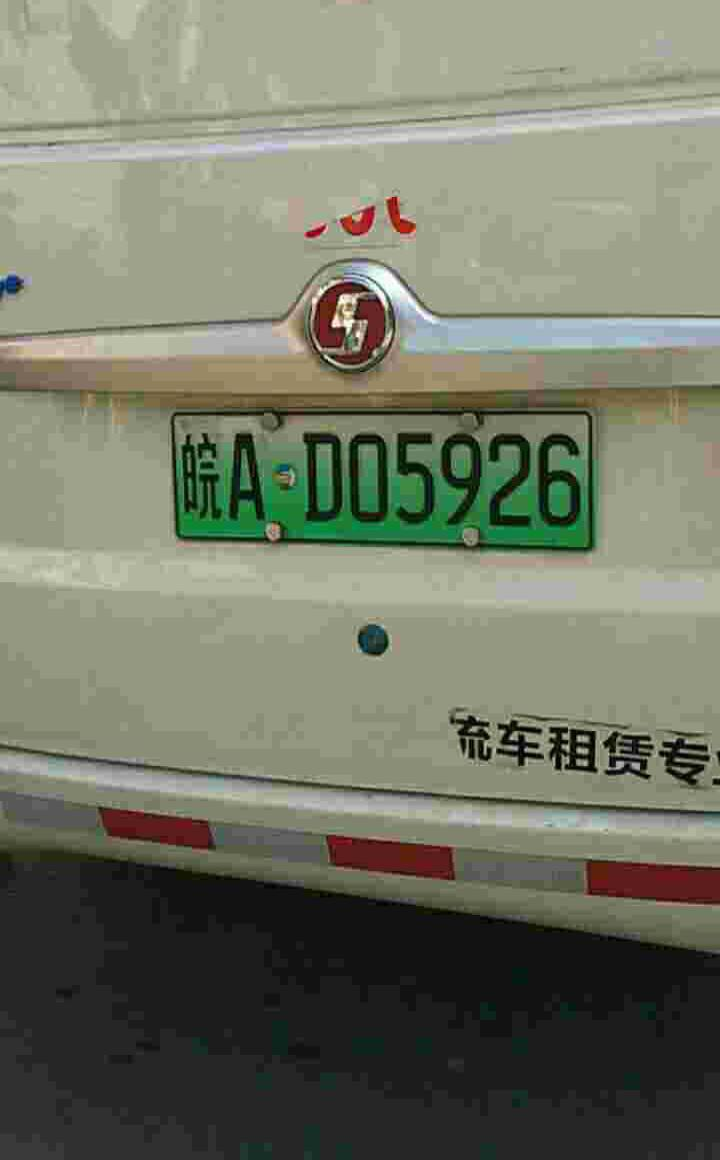car_id: (174, 410, 591, 548)
